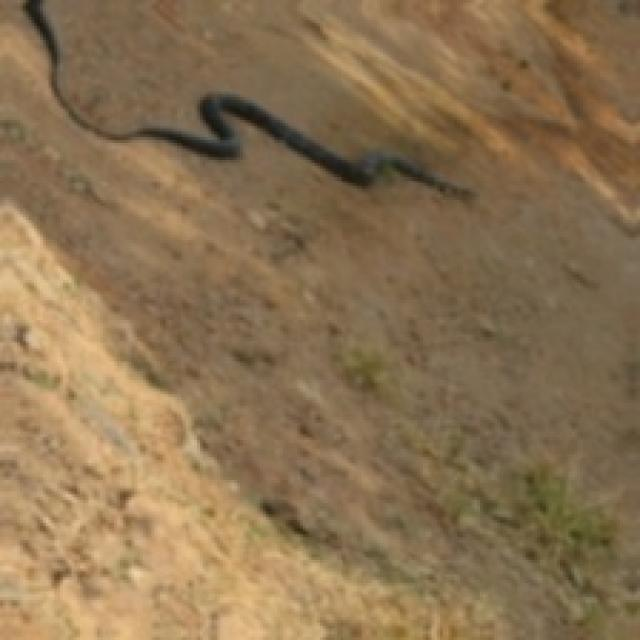king cobra: (26, 0, 471, 197)
